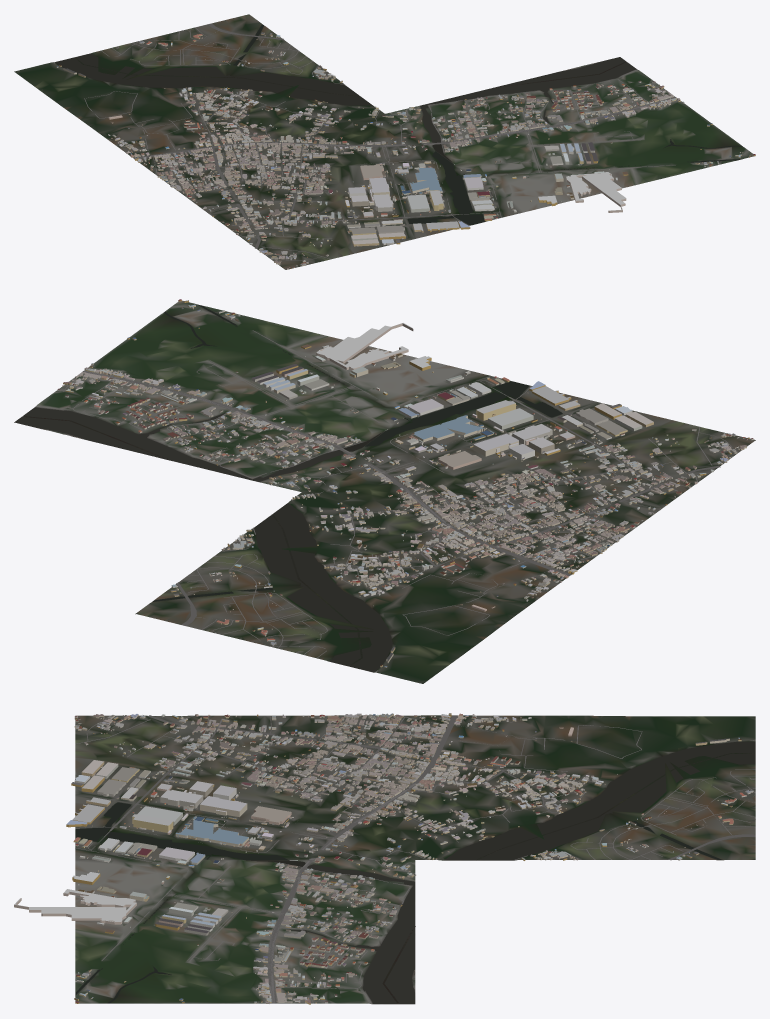
3 renders of one model, top to bottom at view 1: azimuth 30°, elevation 25°; view 2: azimuth 150°, elevation 25°; view 3: azimuth 270°, elevation 25°, orthographic. The views are drawn at different scales.
Parts seen in each view (by area): view 1: ground, buildings, water, roads; view 2: ground, buildings, water, roads; view 3: ground, buildings, water, roads.
Part boxes in pixels (bbox=[...]): ground: bbox=[14, 14, 754, 269]; buildings: bbox=[56, 32, 755, 269]; water: bbox=[55, 24, 742, 225]; roads: bbox=[53, 23, 676, 260]; ground: bbox=[14, 300, 755, 683]; buildings: bbox=[57, 299, 753, 667]; water: bbox=[15, 304, 665, 671]; roads: bbox=[35, 330, 738, 672]; ground: bbox=[75, 715, 755, 1004]; buildings: bbox=[14, 713, 753, 1004]; water: bbox=[75, 741, 755, 1003]; roads: bbox=[75, 715, 755, 1003].
Size of the model in its own units: 2816 by 39.72 by 3055.
